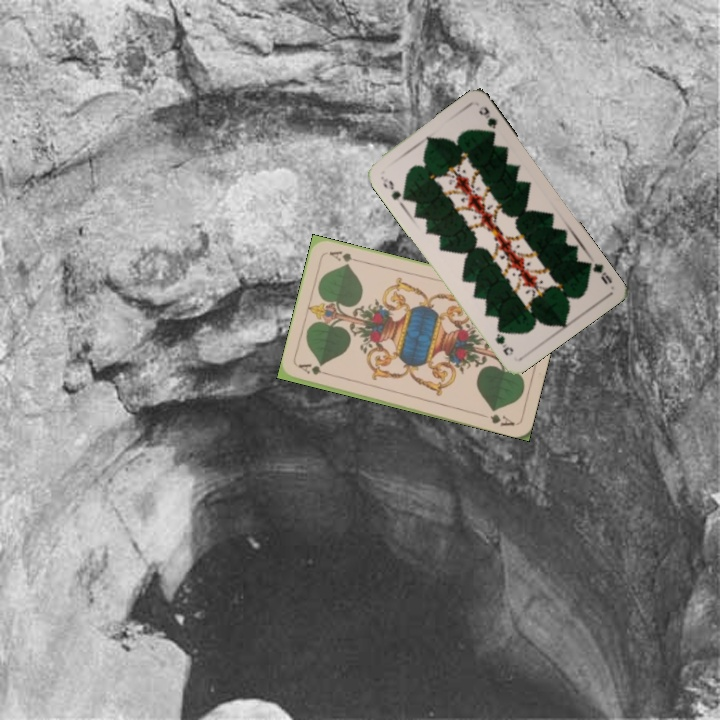G9: (376, 172, 409, 204), (581, 258, 615, 287)
GA: (295, 360, 334, 379)
